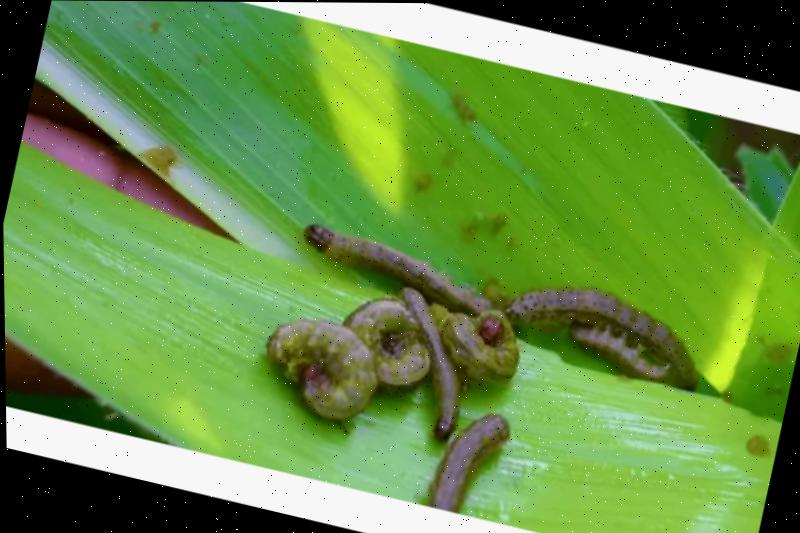fall-armyworm: (502, 288, 698, 399), (304, 224, 492, 322), (266, 318, 379, 423), (398, 286, 460, 443), (342, 298, 434, 388), (428, 412, 509, 513), (437, 309, 519, 382), (571, 324, 669, 382)
